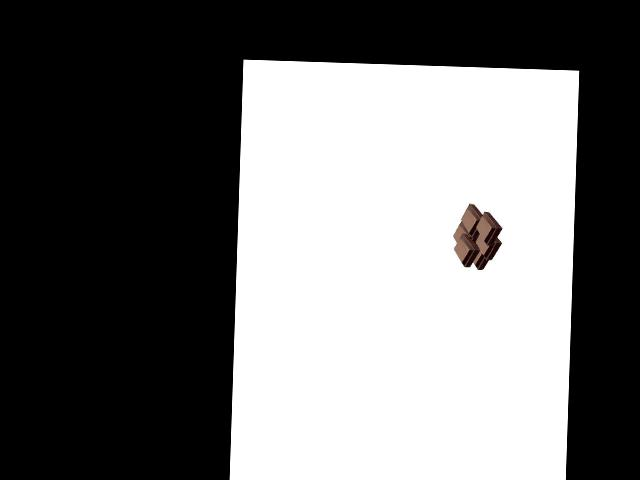chocolate: (450, 204, 501, 272)
